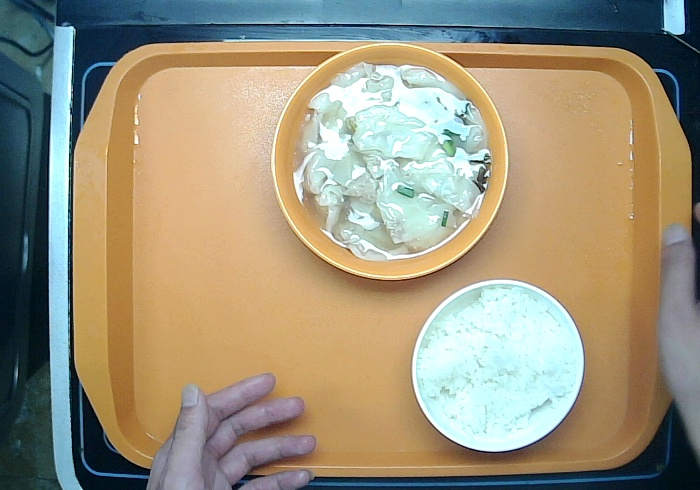NLDX-Fan_Wan: (409, 276, 585, 454)
NLDX-Hun_Tun_Wan: (269, 39, 511, 281)
